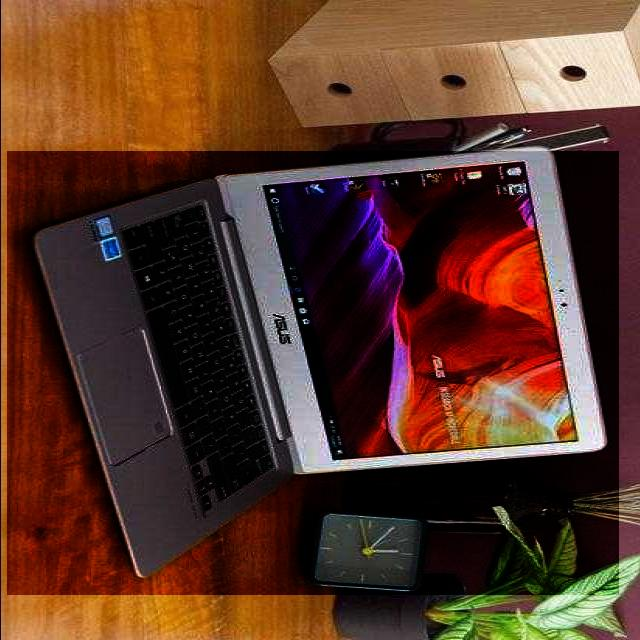-keyboard-: (7, 151, 619, 595)
